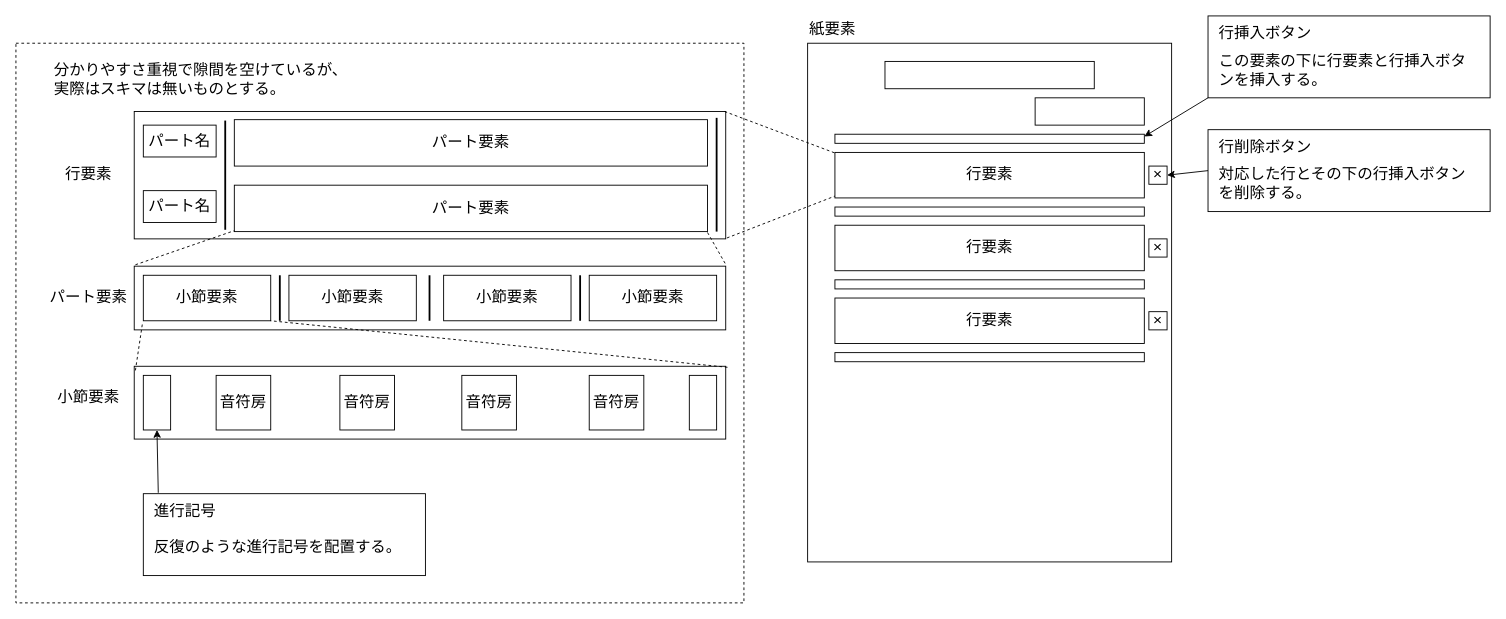
This 1506x619 diagram has some shape labels left out. Each missing label, with the centre of its shape:
"曲名" belongs at [989,75].
"著者名" belongs at [1089,111].
